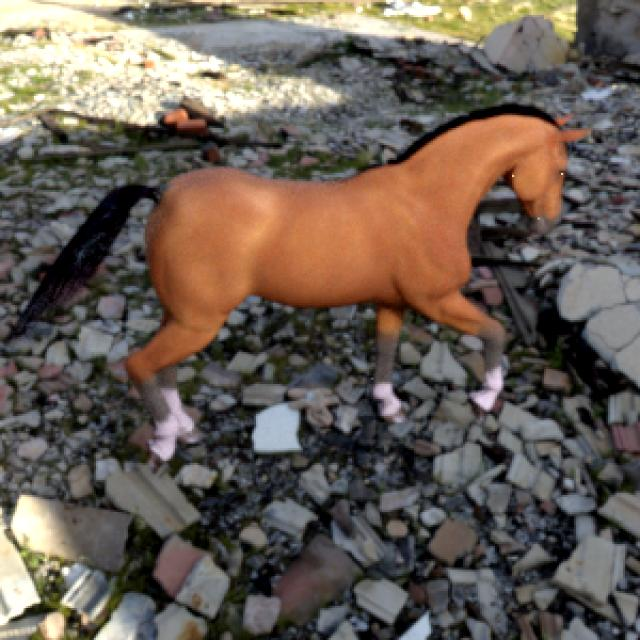horse: (11, 105, 589, 461)
